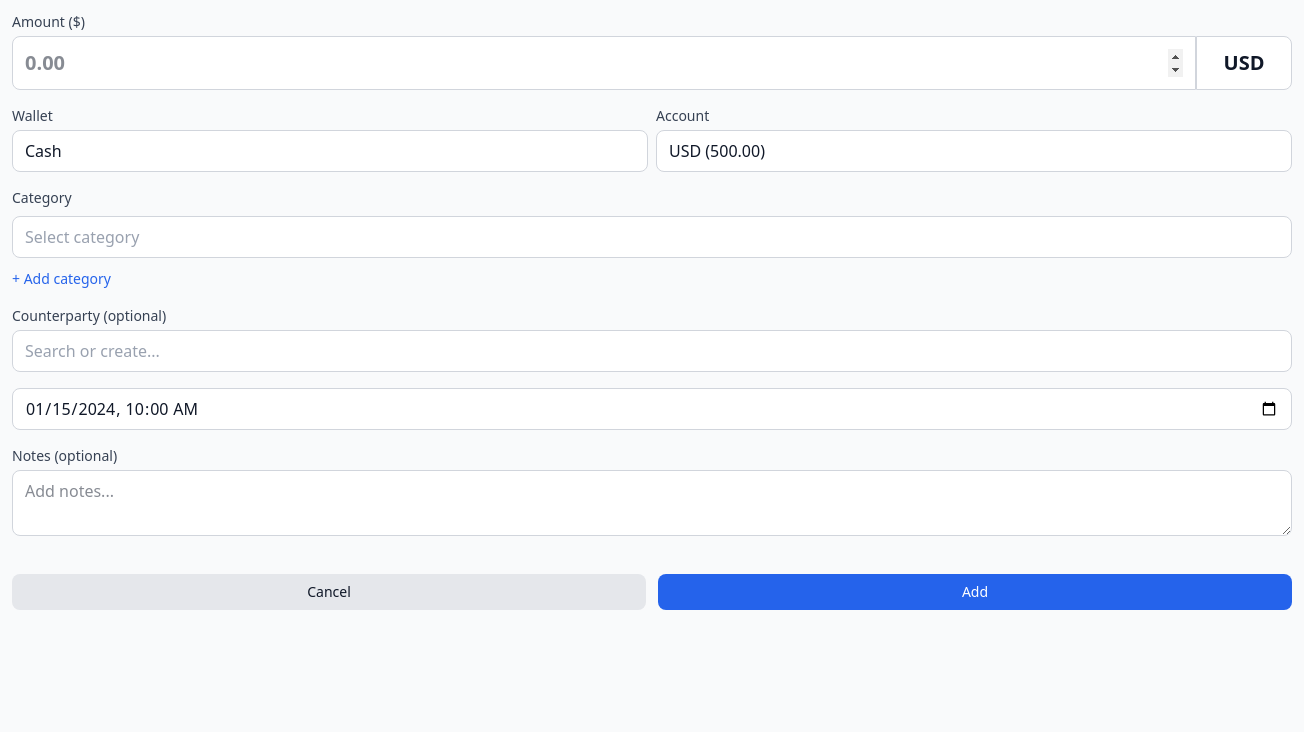
Test: ExpenseTransactionForm › shows validation errors when submitting empty form
Click the button "Add": (975, 592) x1=658 y1=574 x2=1292 y2=610
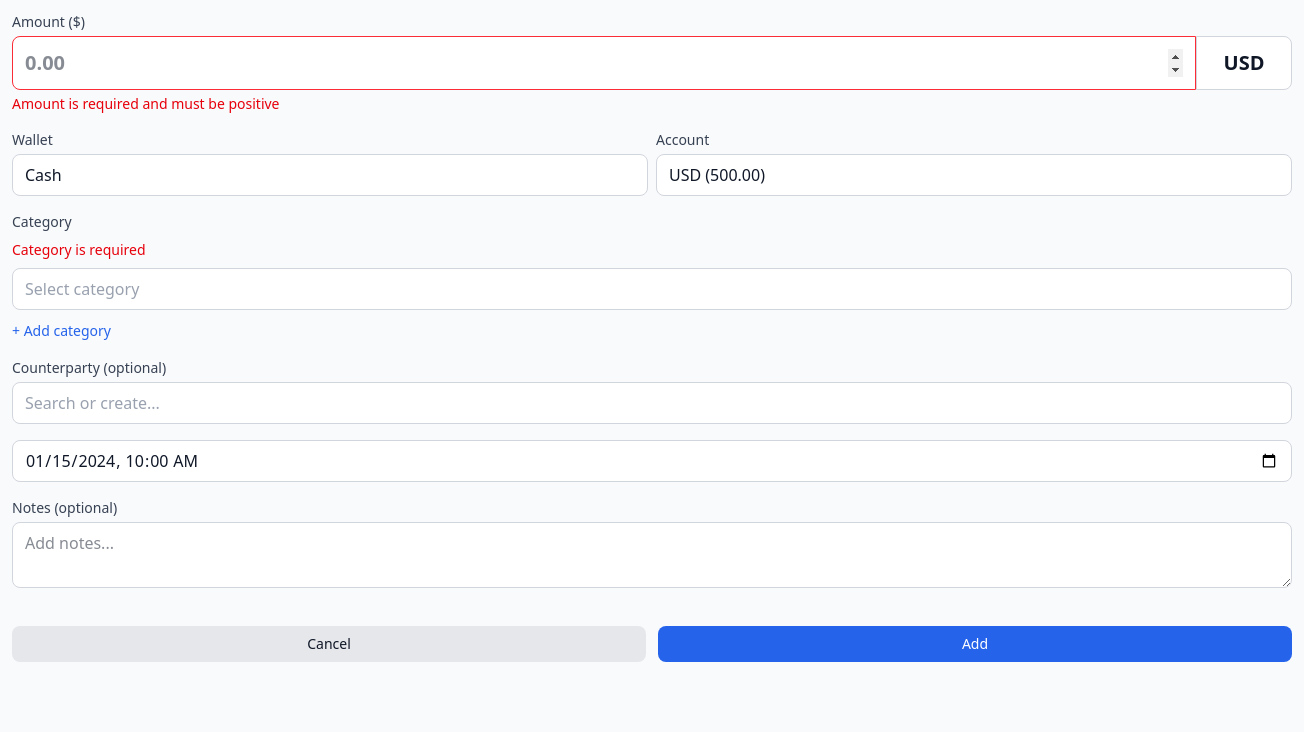
expect the text "Amount is required and must be positive" is shown: met, box x1=12 y1=94 x2=280 y2=113
expect the text "Category is required" is shown: met, box x1=12 y1=240 x2=146 y2=259
